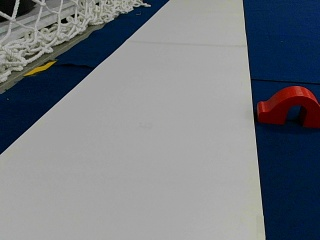bridge: (257, 85, 318, 124)
